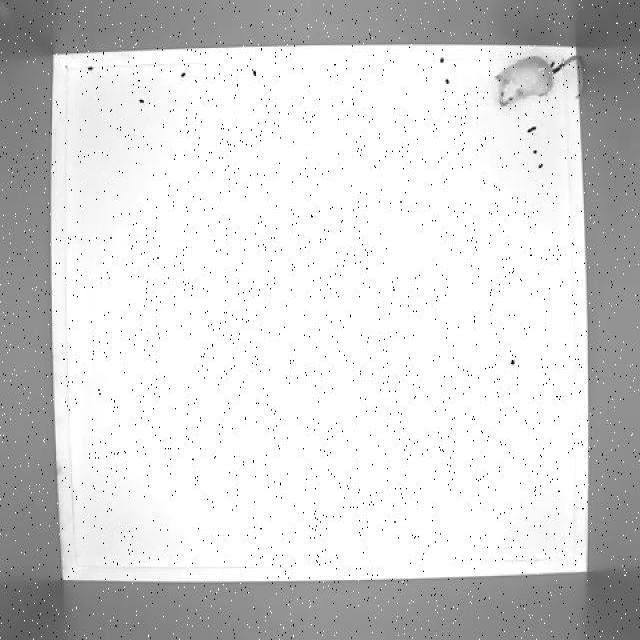rat: (491, 47, 591, 113)
